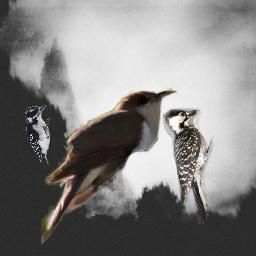Cuckoo: (41, 87, 177, 249)
Woodpecker: (161, 108, 216, 224), (25, 105, 52, 166)
